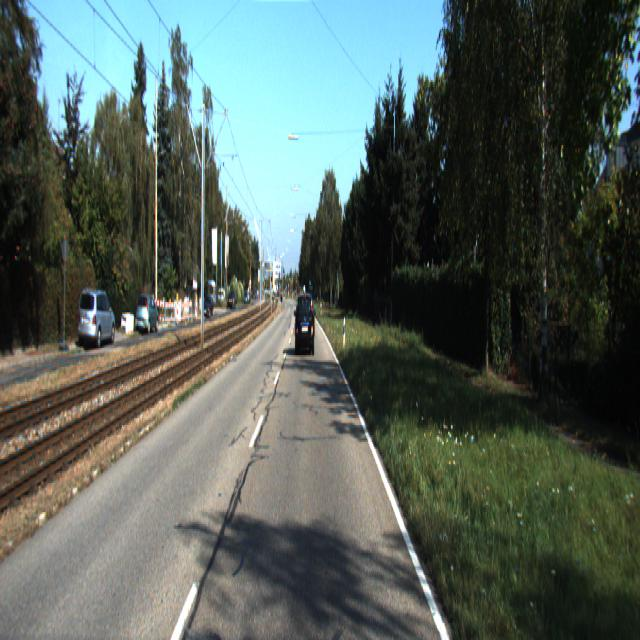Car: (78, 287, 116, 350), (296, 294, 315, 358), (135, 294, 160, 336)
